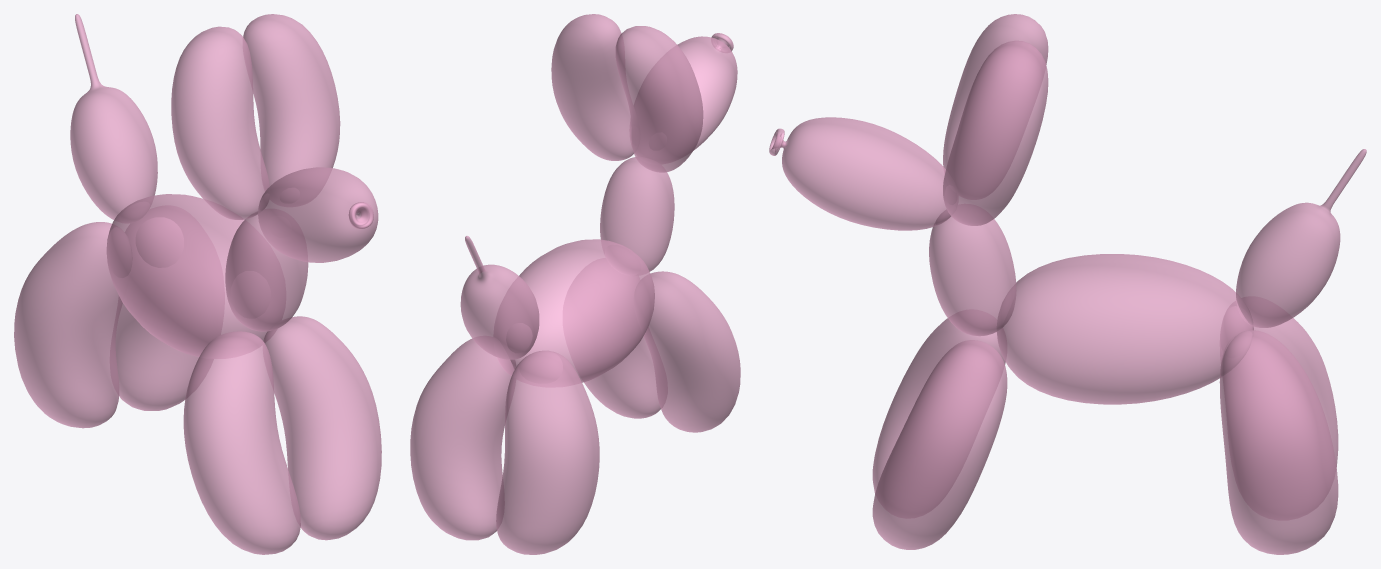
The model's file is balloon-dog.glb.
3 renders of one model, left to right at view 1: azimuth 30°, elevation 25°; view 2: azimuth 150°, elevation 25°; view 3: azimuth 270°, elevation 25°, orthographic. The views are drawn at different scales.
Visible parts, largest first — view 1: Cube.001, Cube.006, Cube.003, Cube, Cube.004, Cube.005, Cube.002; view 2: Cube.003, Cube.006, Cube, Cube.001, Cube.002, Cube.004, Cube.005; view 3: Cube, Cube.003, Cube.001, Cube.006, Cube.005, Cube.004, Cube.002.
Part boxes in pixels (x1,y1,x2,y2): Cube.001: (183, 316, 381, 554); Cube.006: (171, 14, 340, 219); Cube.003: (14, 217, 199, 428); Cube: (106, 194, 270, 356); Cube.004: (70, 14, 157, 223); Cube.005: (258, 167, 378, 262); Cube.002: (225, 214, 308, 331); Cube.003: (410, 338, 599, 554); Cube.006: (551, 14, 703, 172); Cube: (497, 239, 654, 383); Cube.001: (584, 271, 740, 432); Cube.002: (600, 157, 674, 275); Cube.004: (460, 236, 539, 359); Cube.005: (630, 33, 737, 150); Cube: (996, 254, 1253, 404); Cube.003: (1219, 306, 1338, 554); Cube.001: (872, 318, 1007, 549); Cube.006: (943, 14, 1048, 225); Cube.005: (769, 117, 957, 230); Cube.004: (1236, 149, 1366, 327); Cube.002: (929, 209, 1016, 336).
Bounding box in the file's own units: 2.46 × 5.89 × 6.36.
